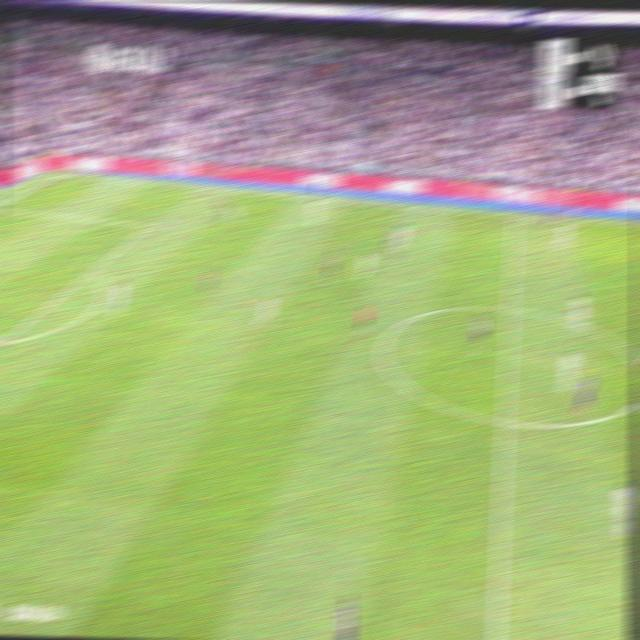bigarea_top_inner: (141, 218, 154, 232)
bottom_arc_area_intersection: (0, 331, 8, 350)
corner: (52, 166, 68, 177)
halfcircle_bottom: (495, 407, 515, 436)
halfcircle_top: (501, 296, 519, 320)
midline_top_intersection: (507, 209, 521, 222)
top_arc_area_intersection: (85, 261, 99, 276)
